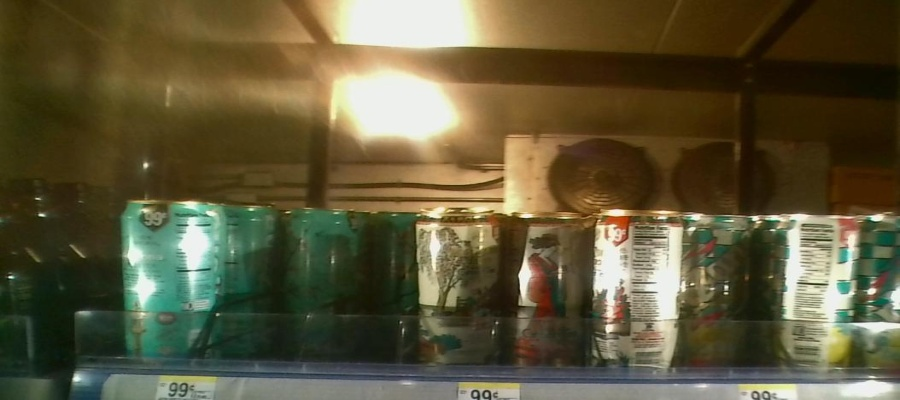bottle: (118, 194, 230, 370), (590, 202, 682, 381), (768, 208, 857, 376), (281, 198, 366, 363), (505, 204, 583, 378), (420, 202, 501, 368), (684, 208, 757, 385), (368, 206, 418, 353), (861, 210, 899, 382)
